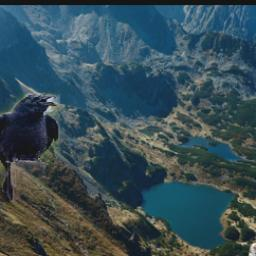Crow: (0, 94, 60, 203)
